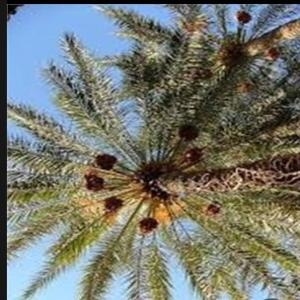palm tree: (6, 3, 299, 299)
